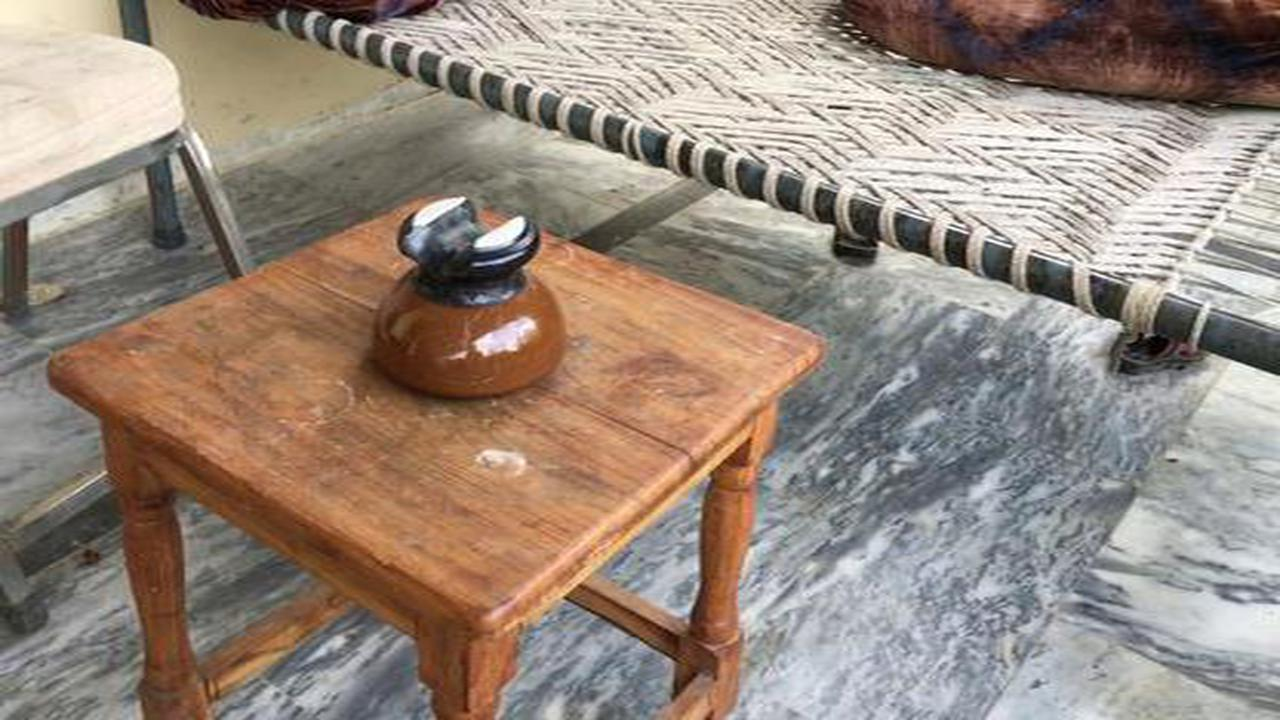insulator_pin: (348, 181, 591, 414)
